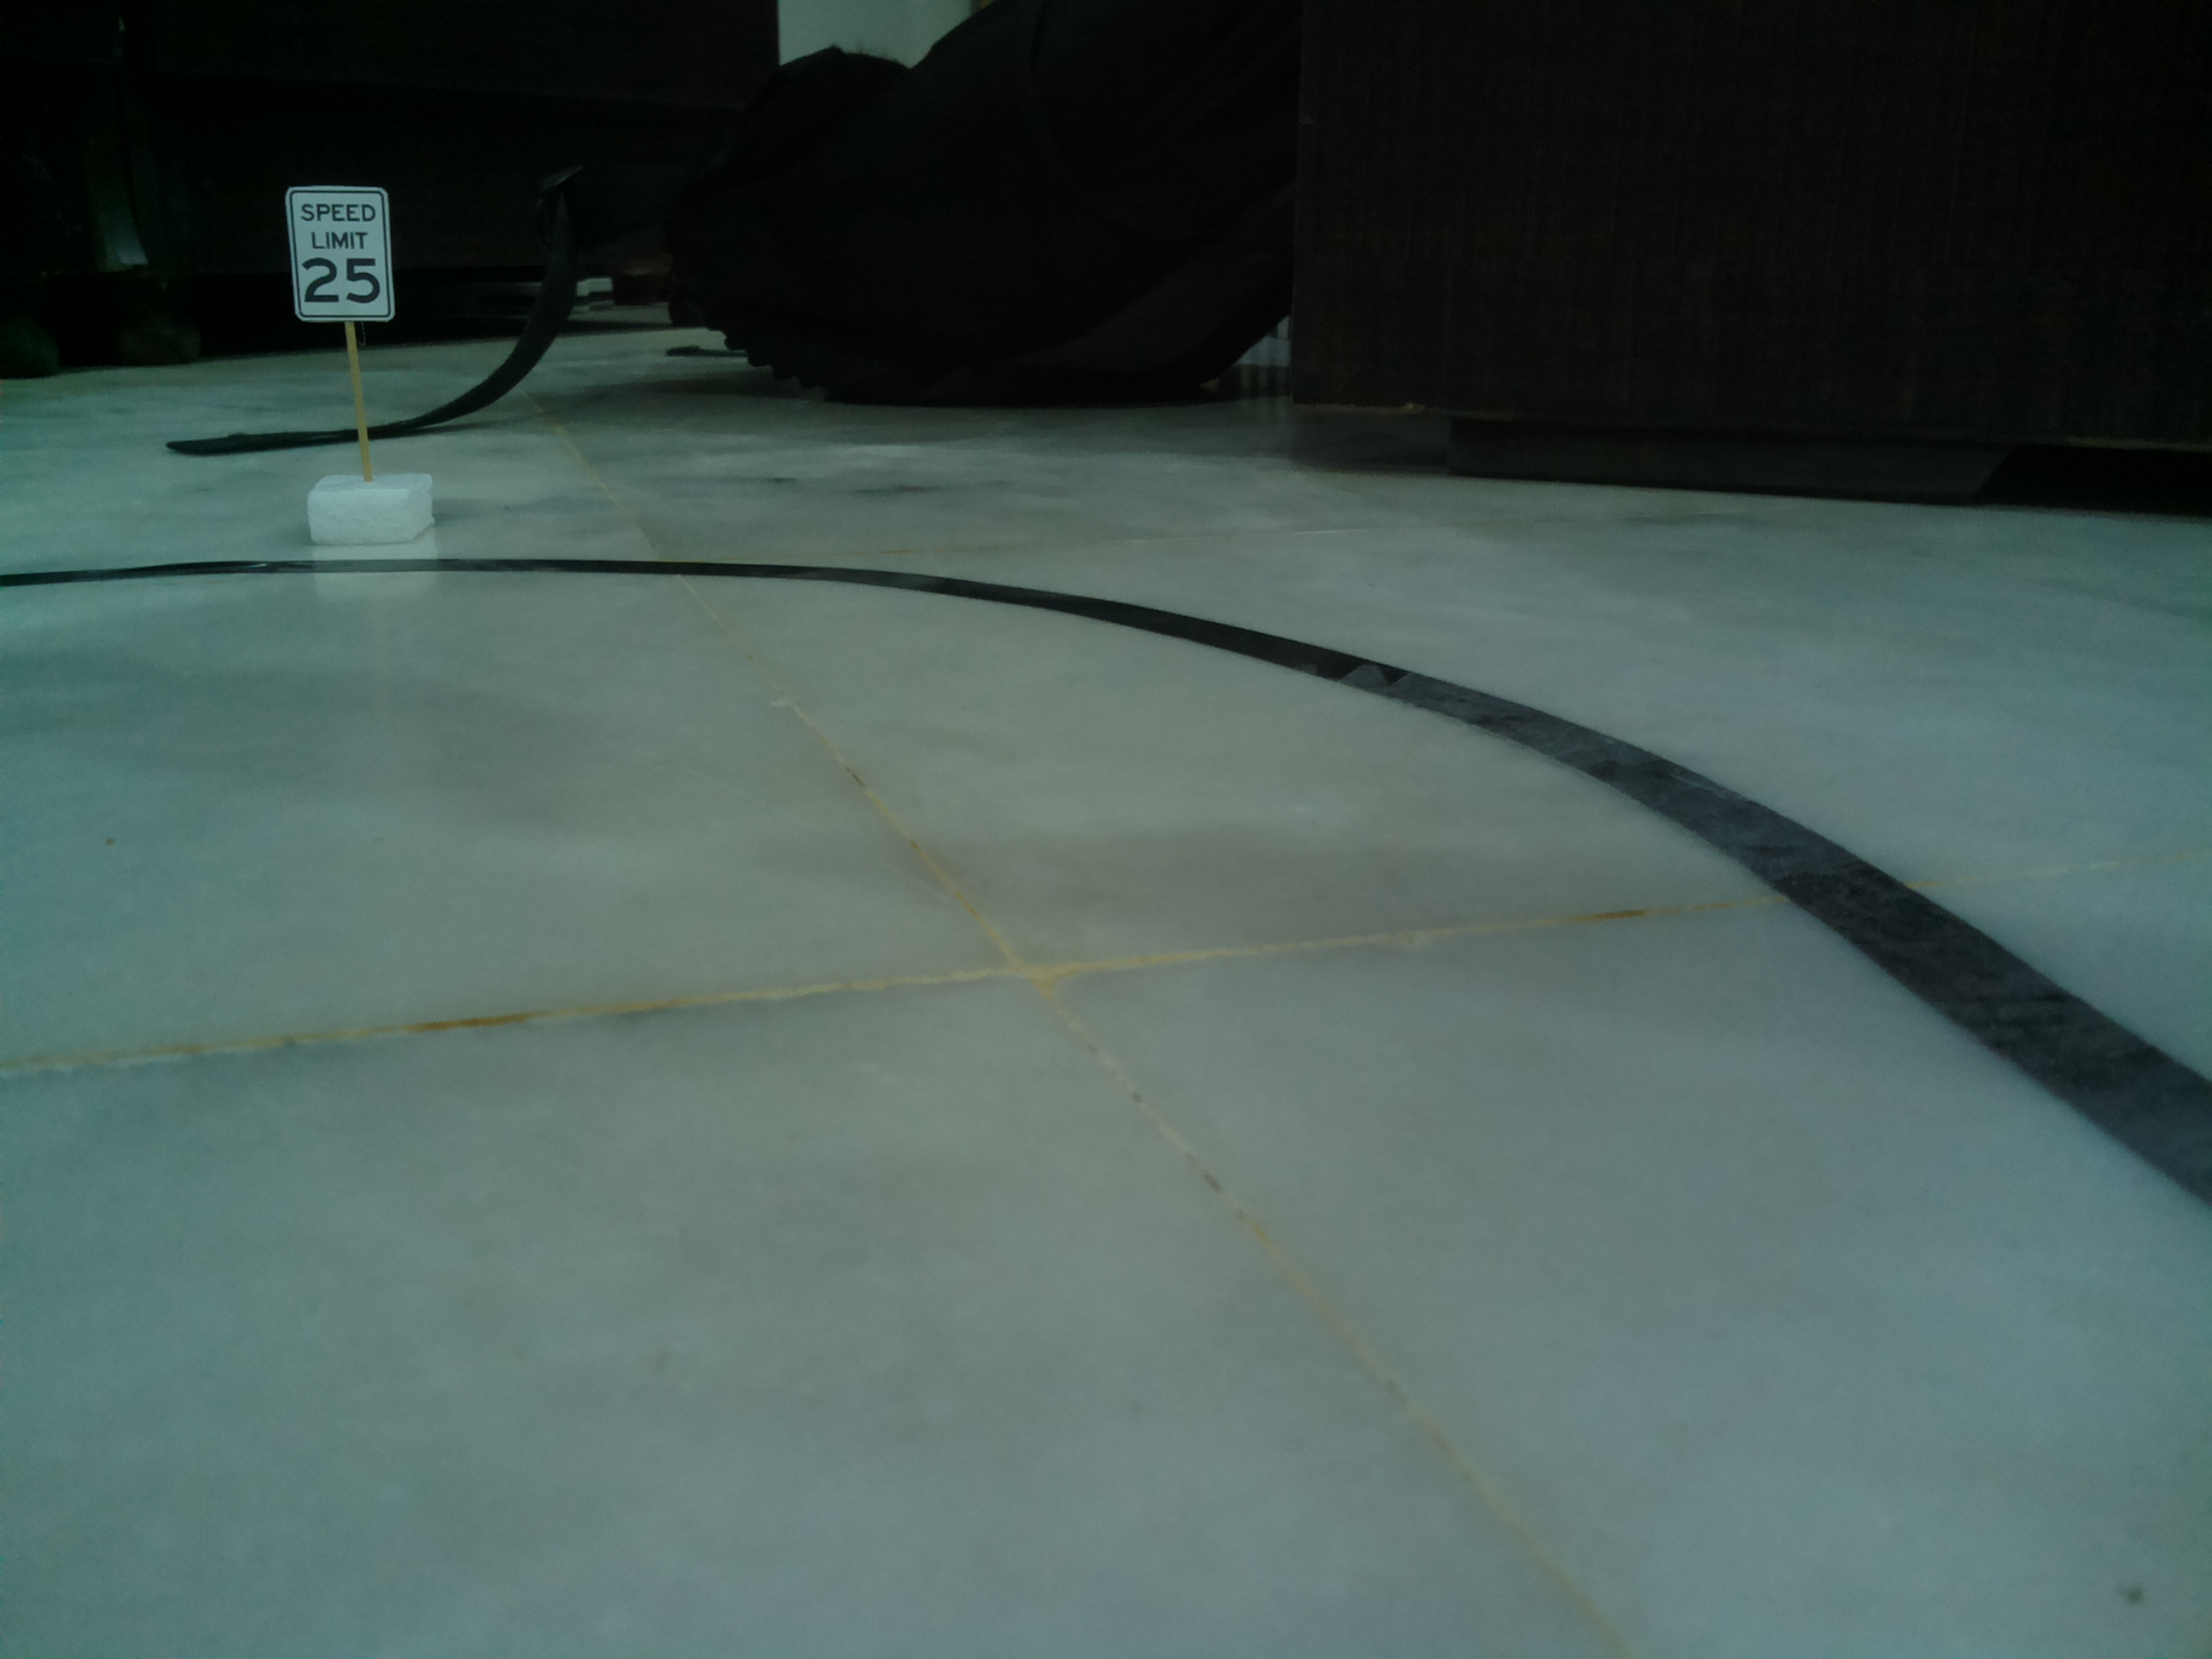Speed limit 25: (279, 183, 408, 322)
